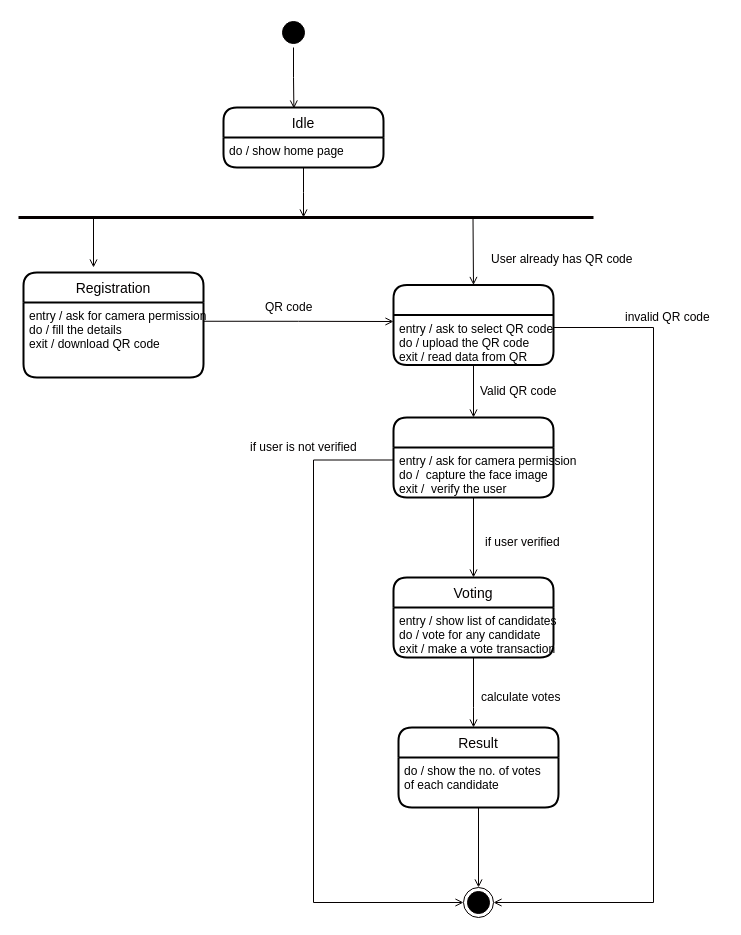
This 741x935 diagram has some shape labels left out. The shapes that lost their labels are listed below. From the top down, each one's box as (x1, y1, x2, y2) in pixels, then its label:
(392, 284, 554, 366): Login
(392, 416, 554, 498): Verification
